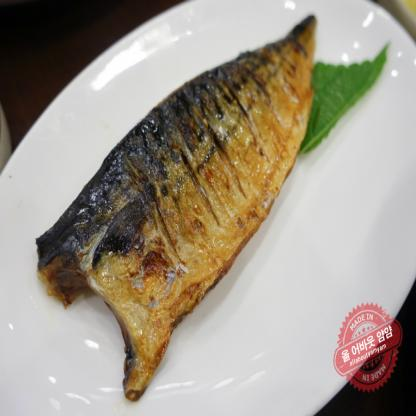Peixe: (28, 6, 326, 416)
